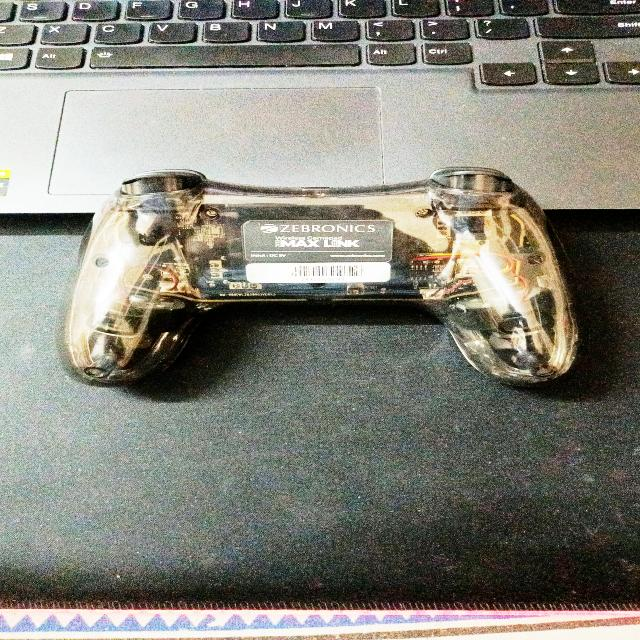gamepad: (63, 165, 580, 388)
